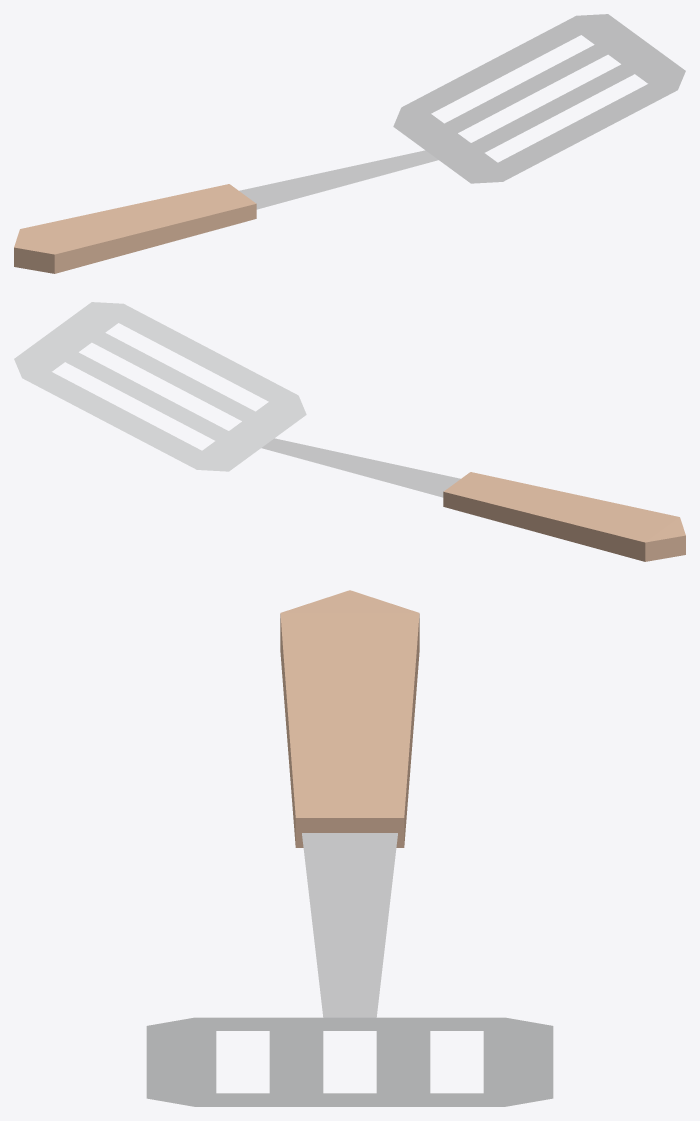
File: spatula.glb
3 renders of one model, top to bottom at view 1: azimuth 30°, elevation 25°; view 2: azimuth 150°, elevation 25°; view 3: azimuth 270°, elevation 25°, orthographic. The views are drawn at different scales.
Visible parts, largest first — view 1: cookingSpatula; view 2: cookingSpatula; view 3: cookingSpatula.
Part boxes in pixels (left/top/right/bottom): cookingSpatula: left=14, top=14, right=685, bottom=273; cookingSpatula: left=14, top=302, right=685, bottom=561; cookingSpatula: left=146, top=590, right=553, bottom=1106.
Bounding box in the file's own units: 0.6827 × 0.0721 × 0.19.
